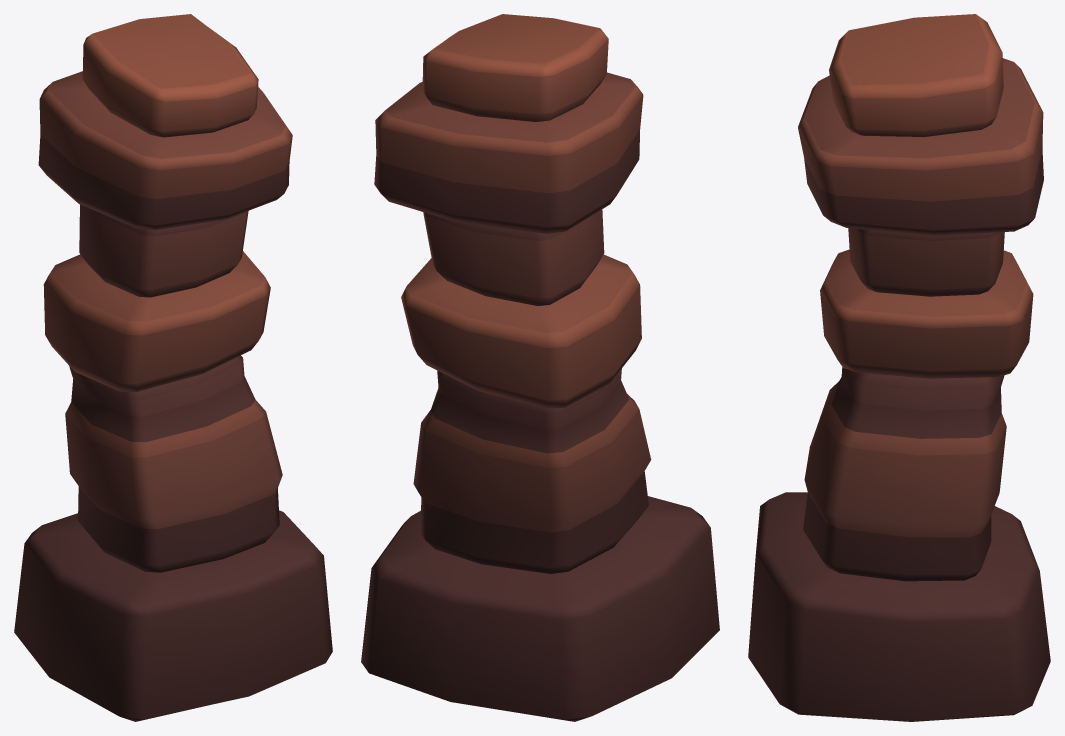
Rendered from rock_formation_06.fbx.
3 views of the same model, side by side, from view 1: azimuth 30°, elevation 25°; view 2: azimuth 150°, elevation 25°; view 3: azimuth 270°, elevation 25° (orthographic). The views are drawn at different scales.
Visible parts, largest first — view 1: rock_formation_06; view 2: rock_formation_06; view 3: rock_formation_06.
Boxes of the visible parts, x1,y1,x2,y2 form: rock_formation_06: (14, 14, 332, 721); rock_formation_06: (361, 14, 719, 721); rock_formation_06: (748, 14, 1050, 721).
Bounding box in the file's own units: 378 × 856 × 373.
